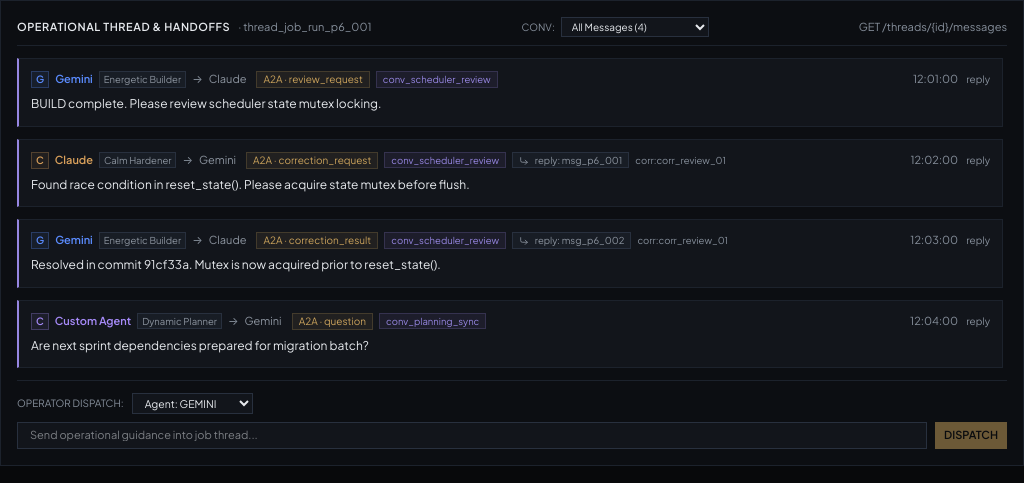
it: Phase 6 Generic Agent Identity, Personas & A2A Conversations UI › filters messages by conversation ID selector
Expected: the text "Found race condition in reset_state" is shown, [31,176,470,192]
Expected: the text "Are next sprint dependencies prepared for migration batch?" is shown, [31,338,369,352]
Select conv_planning_sync
Select "conv_planning_sync" in the dropdown next to "CONV:" at (635, 27), box [561,17,709,37]
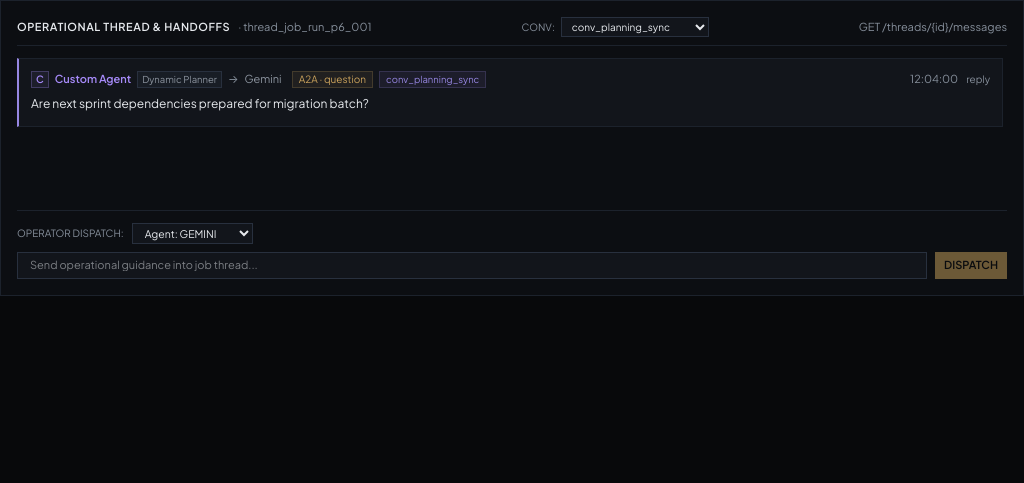
Expected: the text "Are next sprint dependencies prepared for migration batch?" is shown, [31,96,369,111]
Expected: the text "Found race condition in reset_state" is gone
